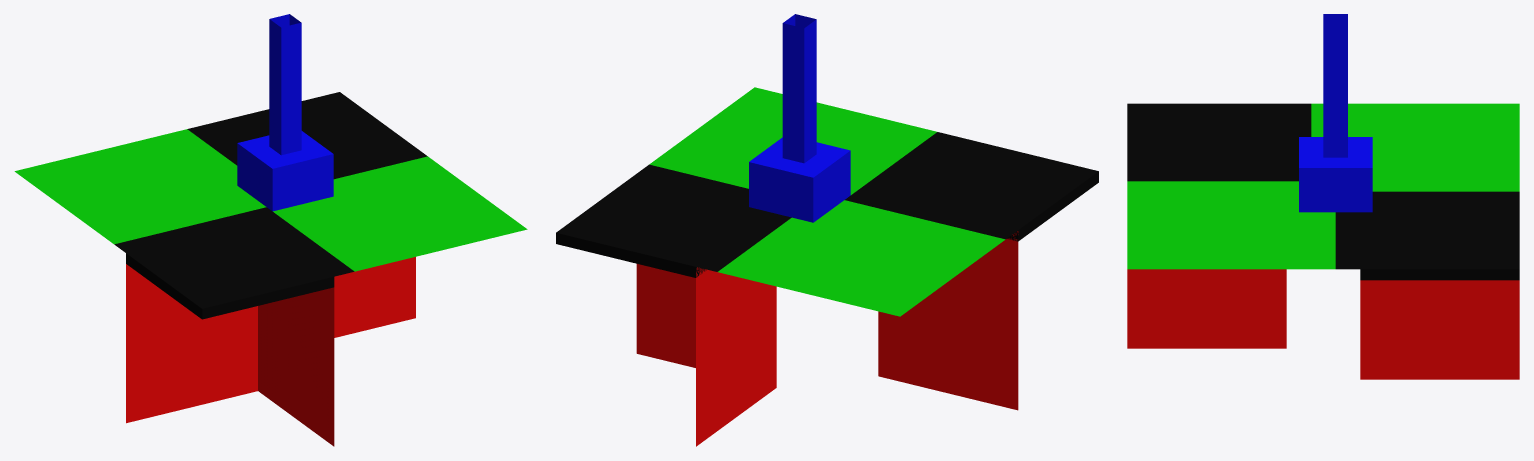
Rendered from None_P_W_E_E_W_P_E_E_BigStrut.fbx.
3 renders of one model, left to right at view 1: azimuth 30°, elevation 25°; view 2: azimuth 150°, elevation 25°; view 3: azimuth 270°, elevation 25°, orthographic. The views are drawn at different scales.
Parts seen in each view (by area): view 1: None_P_W_E_E_W_P_E_E_BigStrut; view 2: None_P_W_E_E_W_P_E_E_BigStrut; view 3: None_P_W_E_E_W_P_E_E_BigStrut.
Boxes of the visible parts, left/top/right/bottom form: None_P_W_E_E_W_P_E_E_BigStrut: left=14, top=14, right=527, bottom=446; None_P_W_E_E_W_P_E_E_BigStrut: left=556, top=14, right=1098, bottom=446; None_P_W_E_E_W_P_E_E_BigStrut: left=1127, top=14, right=1519, bottom=379.
Size of the model in its own units: 100 by 100 by 100.
